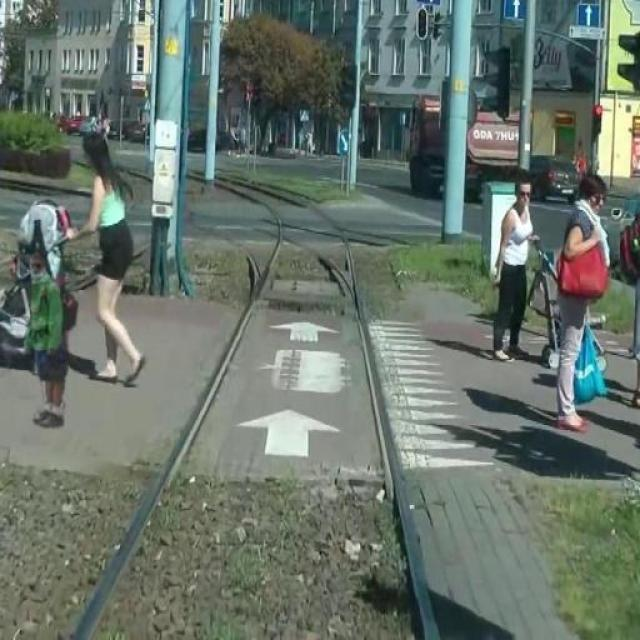people: (71, 125, 160, 388), (547, 160, 614, 442), (490, 172, 540, 370), (22, 254, 76, 432)
